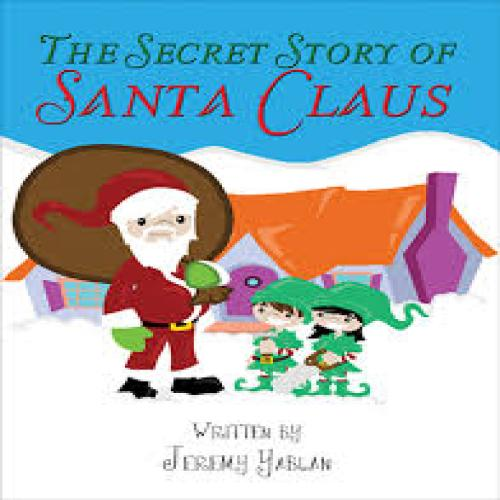Santa: (32, 170, 233, 396)
